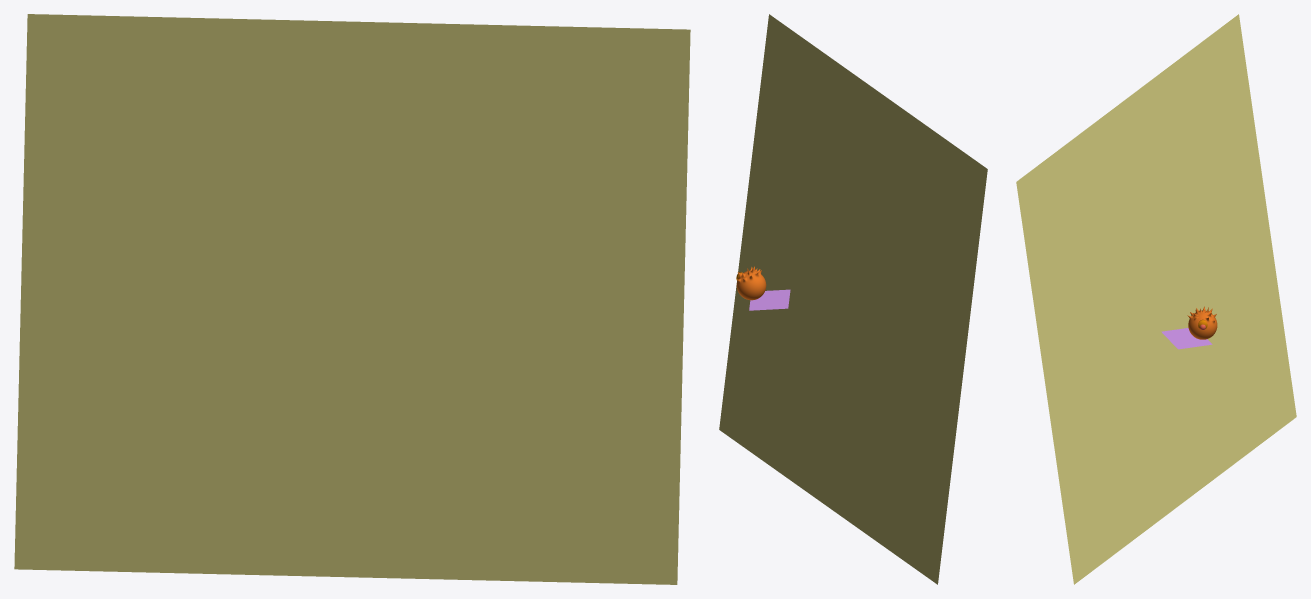
File: ORANGE CELL.fbx
3 renders of one model, left to right at view 1: azimuth 30°, elevation 25°; view 2: azimuth 150°, elevation 25°; view 3: azimuth 270°, elevation 25°, orthographic. The views are drawn at different scales.
Visible parts, largest first — view 1: Plane.001; view 2: Plane.001, Sphere, Plane; view 3: Plane.001, Sphere, Plane.
Boxes of the visible parts, x1,y1,x2,y2 form: Plane.001: (14, 14, 690, 584); Plane.001: (719, 14, 987, 584); Sphere: (736, 266, 766, 300); Plane: (749, 289, 790, 310); Plane.001: (1016, 14, 1296, 584); Sphere: (1187, 306, 1217, 339); Plane: (1161, 328, 1212, 349).
Size of the model in its own units: 2719 by 3008 by 1904.
